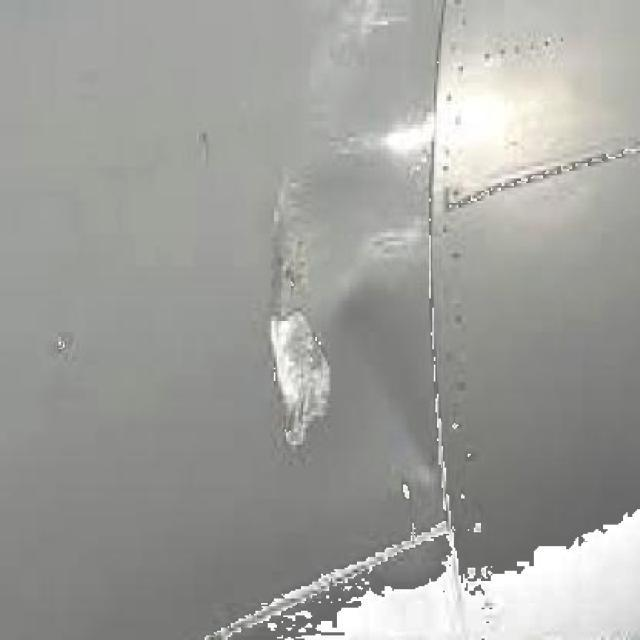dent: (261, 134, 339, 457), (295, 129, 435, 297), (337, 241, 432, 481)
